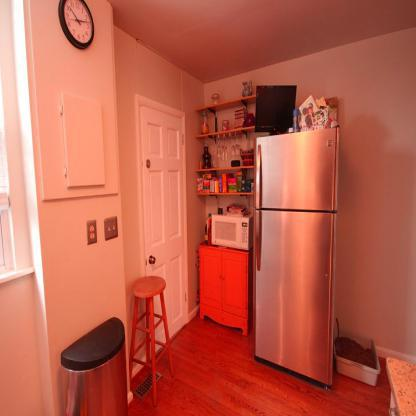door: (140, 106, 190, 361)
hinged: (181, 132, 184, 146), (184, 290, 187, 304)
knob: (151, 256, 156, 266)
